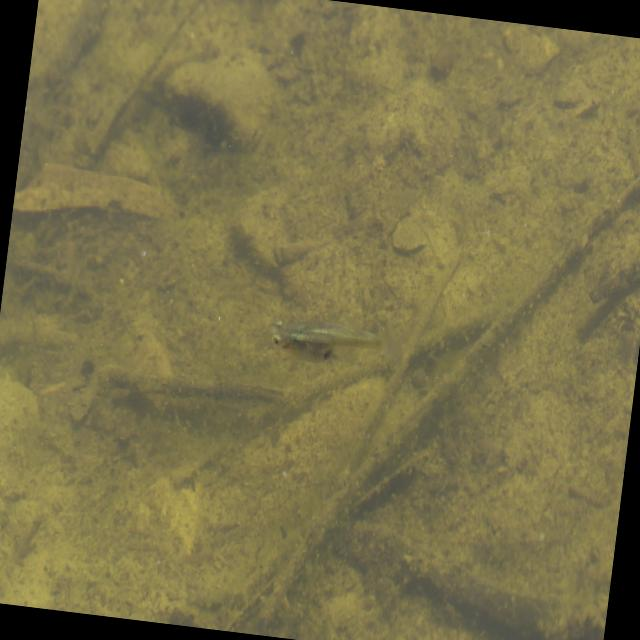Sivrisinek Baligi: (264, 311, 384, 364)
